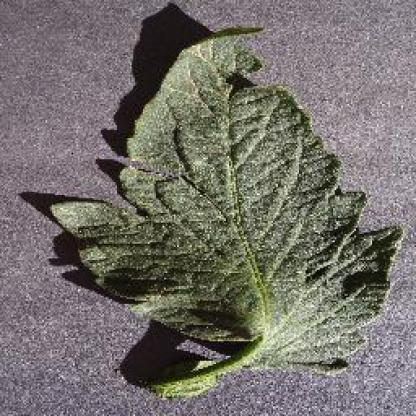good leaf: (129, 52, 358, 360)
